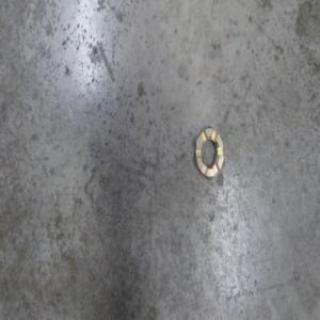Nuttrack_idkeyframe: (194, 122, 224, 180)
